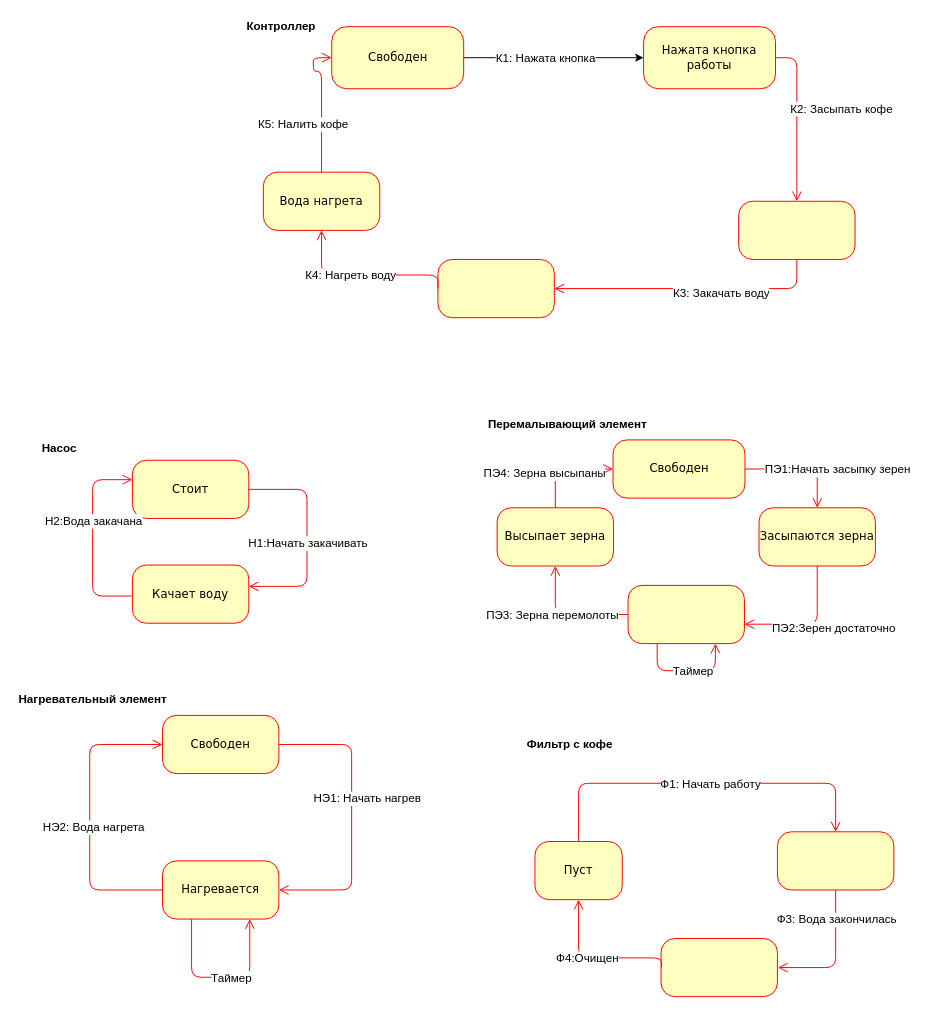
This 926x1014 diagram has some shape labels left out. The box of each missing label's shape, as (x1, y1, x2, y2) in pixels:
Вода закачана: (437, 259, 554, 318)
Зерна перемалываются: (627, 584, 744, 644)
Кофе засыпан: (738, 200, 855, 259)
Нуждается в очистке: (660, 938, 777, 997)
Пропускает воду: (776, 831, 894, 890)
